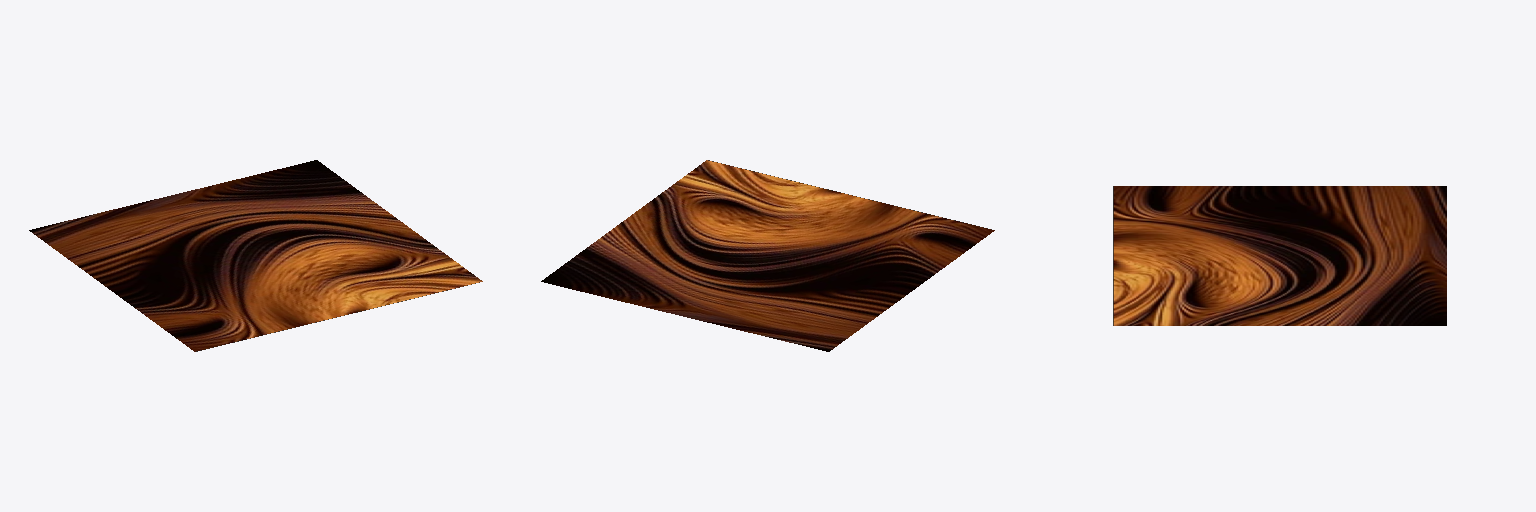
3 views of the same model, side by side, from view 1: azimuth 30°, elevation 25°; view 2: azimuth 150°, elevation 25°; view 3: azimuth 270°, elevation 25° (orthographic).
Parts seen in each view (by area): view 1: Textured2DPlane; view 2: Textured2DPlane; view 3: Textured2DPlane.
Part boxes in pixels (left/top/right/bottom): Textured2DPlane: left=29, top=160, right=482, bottom=351; Textured2DPlane: left=541, top=160, right=994, bottom=351; Textured2DPlane: left=1113, top=186, right=1446, bottom=325.
Bounding box in the file's own units: 2000 × 0 × 2000.
1 materials, 1 textured.